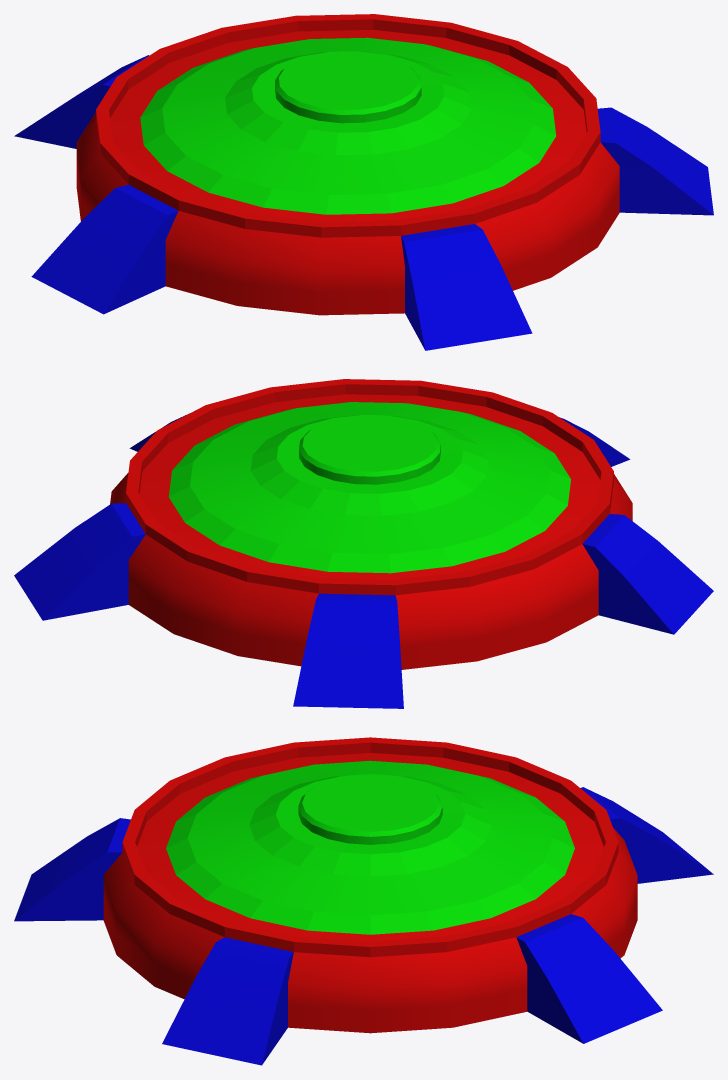
Rendered from Mine_SM.fbx.
3 renders of one model, top to bottom at view 1: azimuth 30°, elevation 25°; view 2: azimuth 150°, elevation 25°; view 3: azimuth 270°, elevation 25°, orthographic. The views are drawn at different scales.
Parts seen in each view (by area): view 1: pCylinder8; view 2: pCylinder8; view 3: pCylinder8.
Part boxes in pixels (x1=…): pCylinder8: x1=14, y1=14, x2=713, y2=350; pCylinder8: x1=14, y1=379, x2=713, y2=708; pCylinder8: x1=14, y1=737, x2=713, y2=1065.
Size of the model in its own units: 4.8 by 0.8881 by 4.8.
